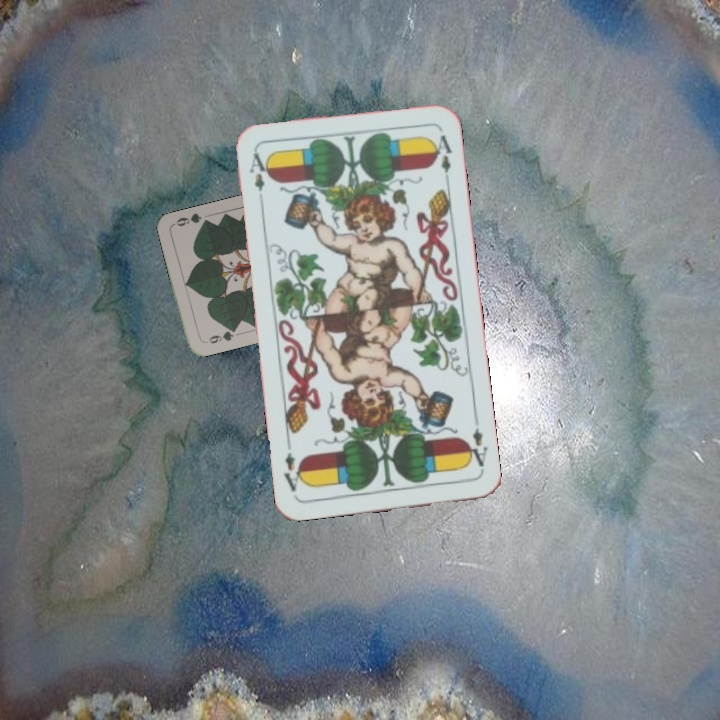EA: (462, 424, 490, 474), (246, 148, 272, 193)
G9: (200, 324, 239, 346)
